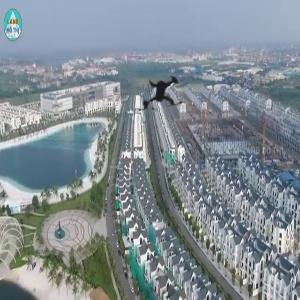drone: (120, 53, 206, 139)
